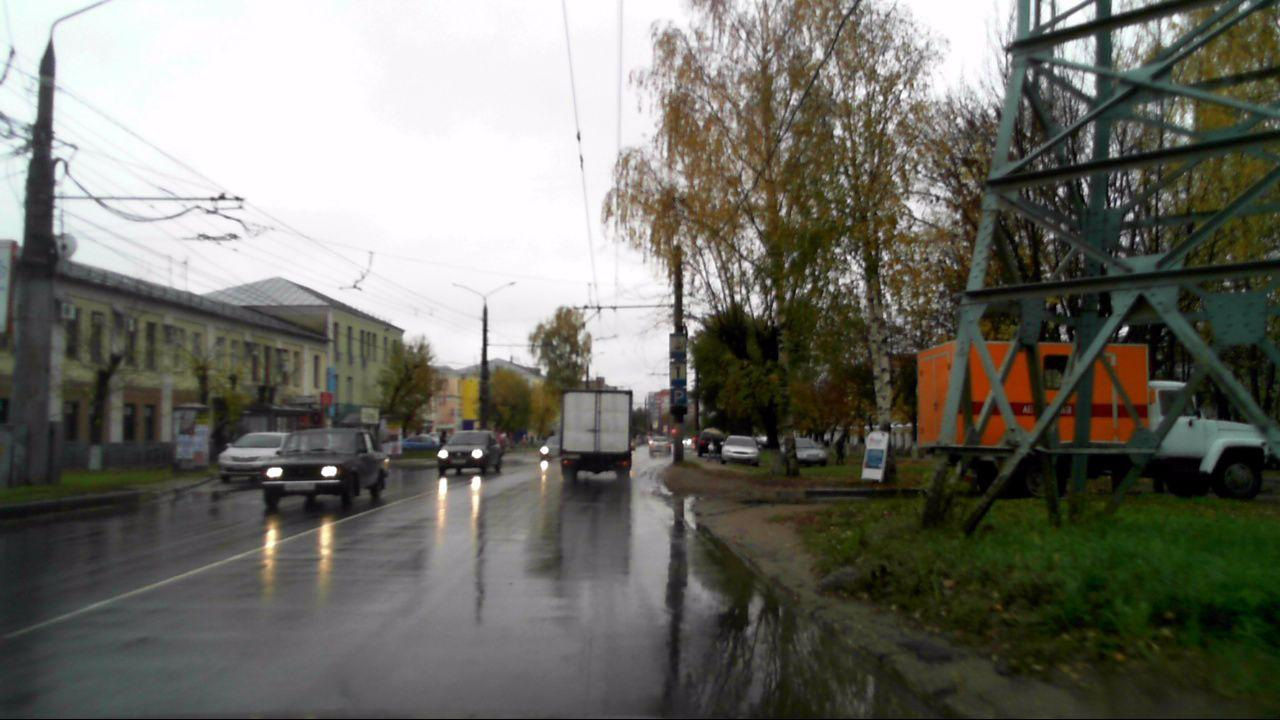6_4: (670, 388, 686, 406)
7_4: (669, 360, 688, 387)
7_5: (670, 334, 688, 358)
